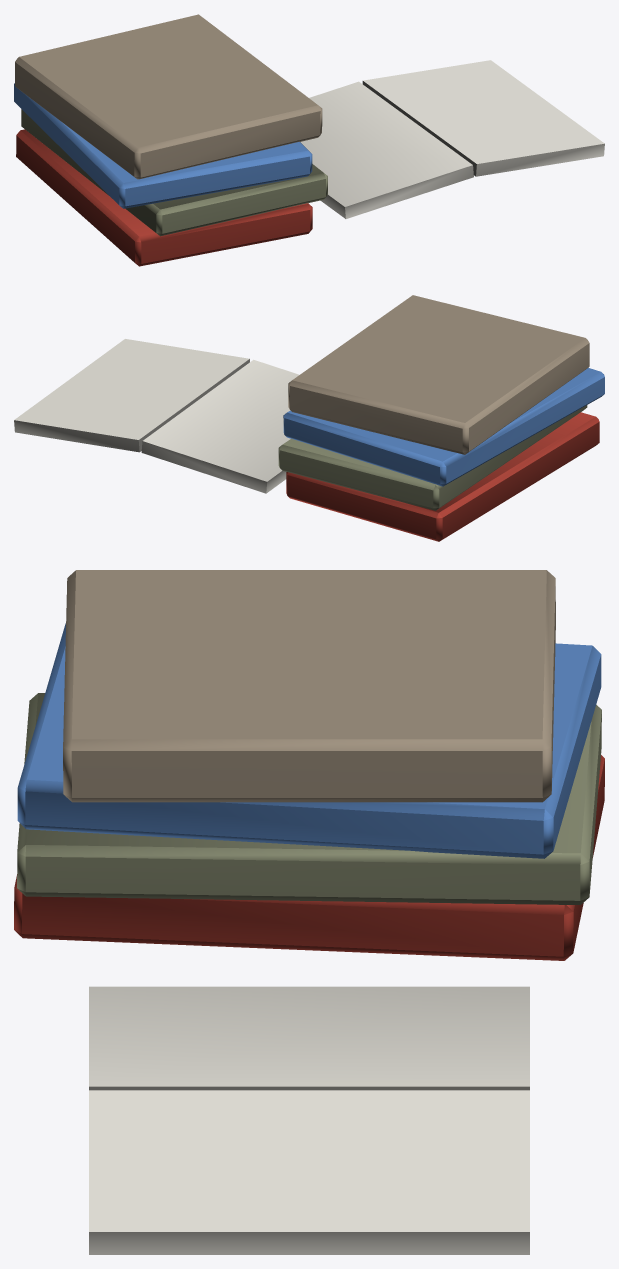
File: books.glb
3 renders of one model, top to bottom at view 1: azimuth 30°, elevation 25°; view 2: azimuth 150°, elevation 25°; view 3: azimuth 270°, elevation 25°, orthographic. The views are drawn at different scales.
Visible parts, largest first — view 1: static; view 2: static; view 3: static.
Part boxes in pixels (x1,y1,x2,y2): static: [14, 14, 604, 266]; static: [14, 295, 604, 541]; static: [14, 570, 604, 1254].
Size of the model in its own units: 0.495 by 0.1223 by 0.2679.
